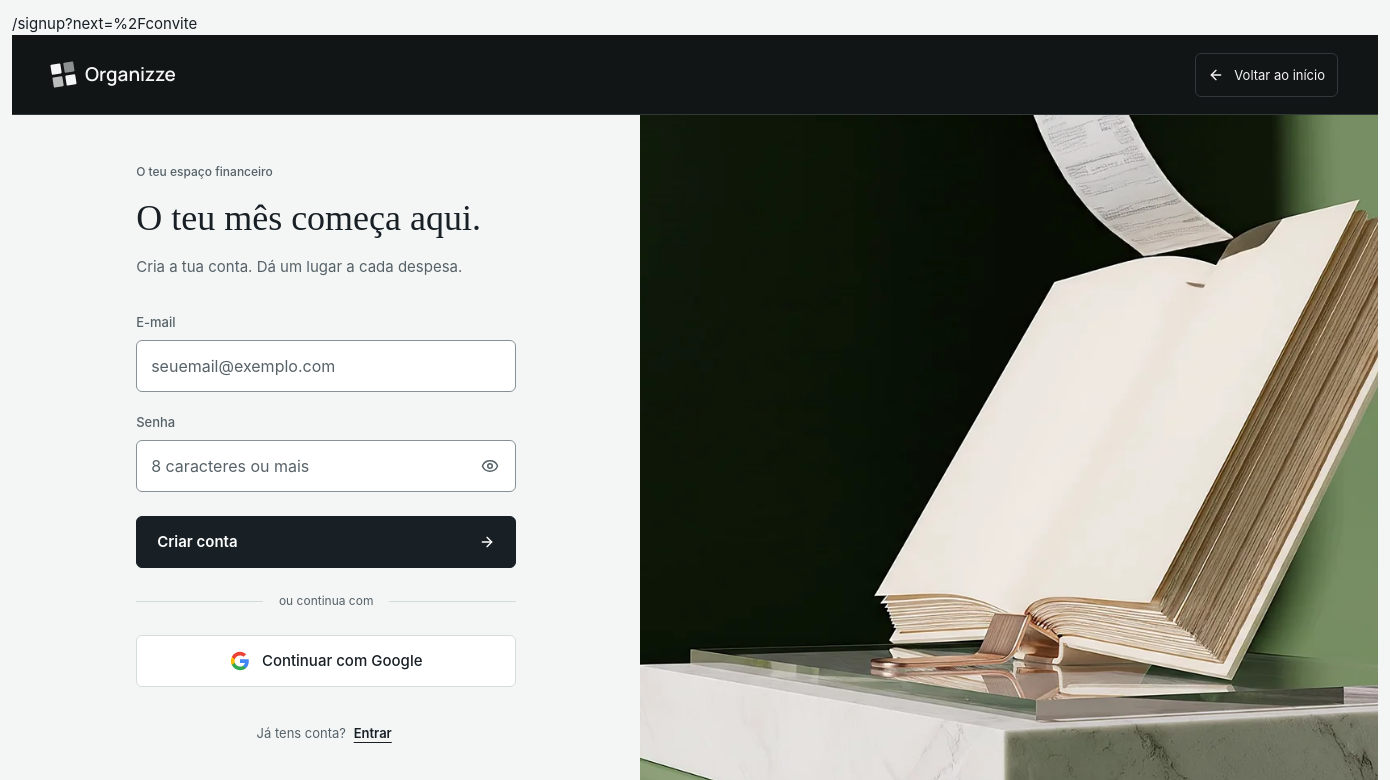
Auth paper credentials › opens the landing signup destination in account creation mode
Expected: the heading "O teu mês começa aqui." is shown, x1=136 y1=198 x2=516 y2=239
In the field labelled "E-mail": x=326, y=366 x1=136 y1=340 x2=516 y2=392, type "person@example.com"
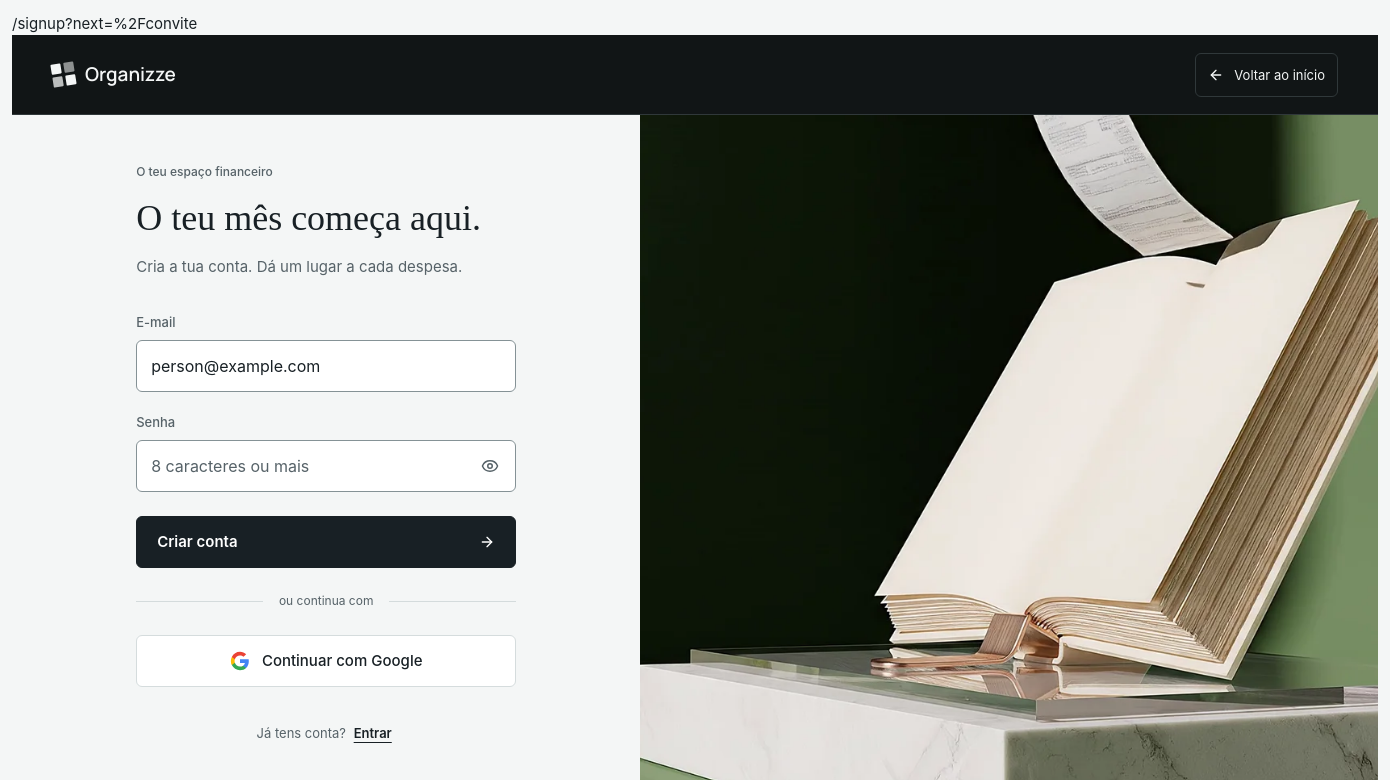
In the password field labelled "Senha": x=326, y=466 x1=136 y1=440 x2=516 y2=492, type " secure-password "
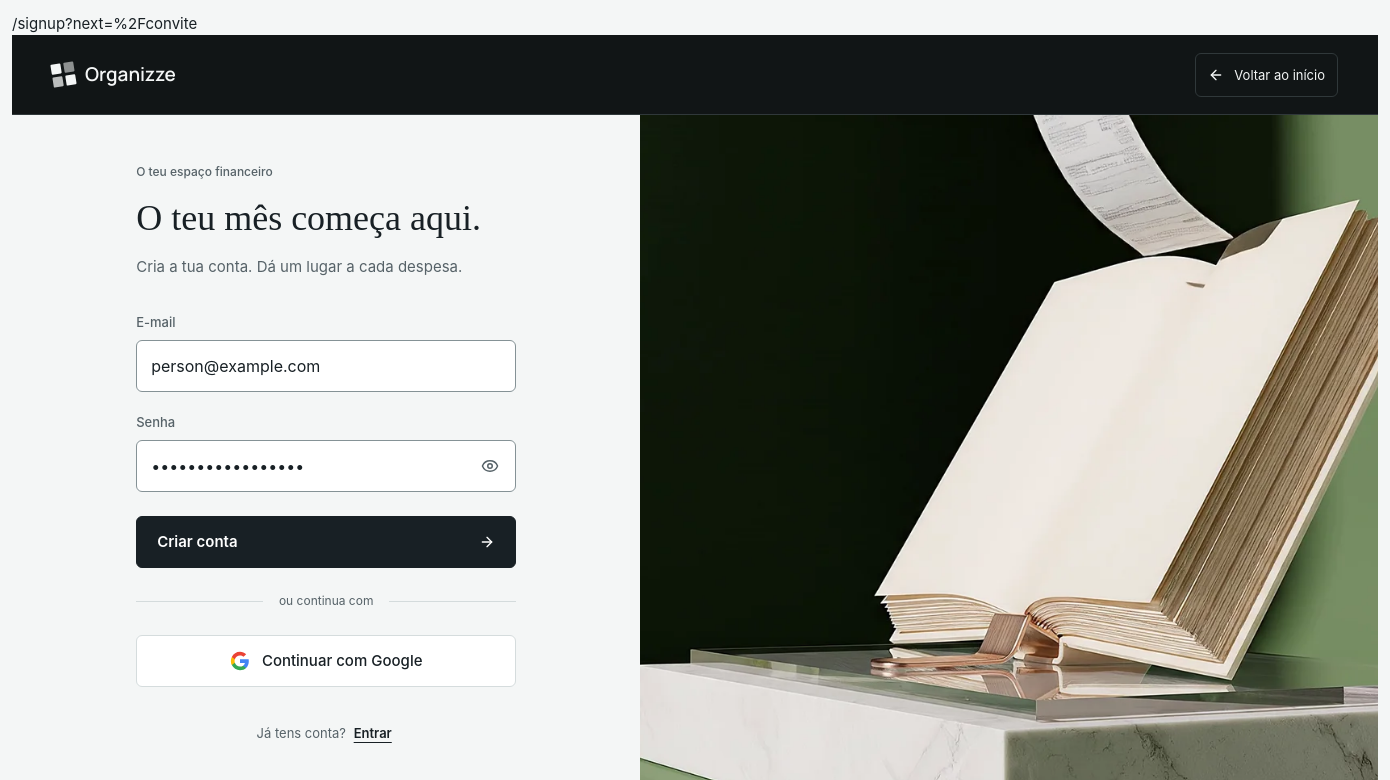
Click the button "Criar conta": x=197, y=542 x1=136 y1=516 x2=516 y2=568
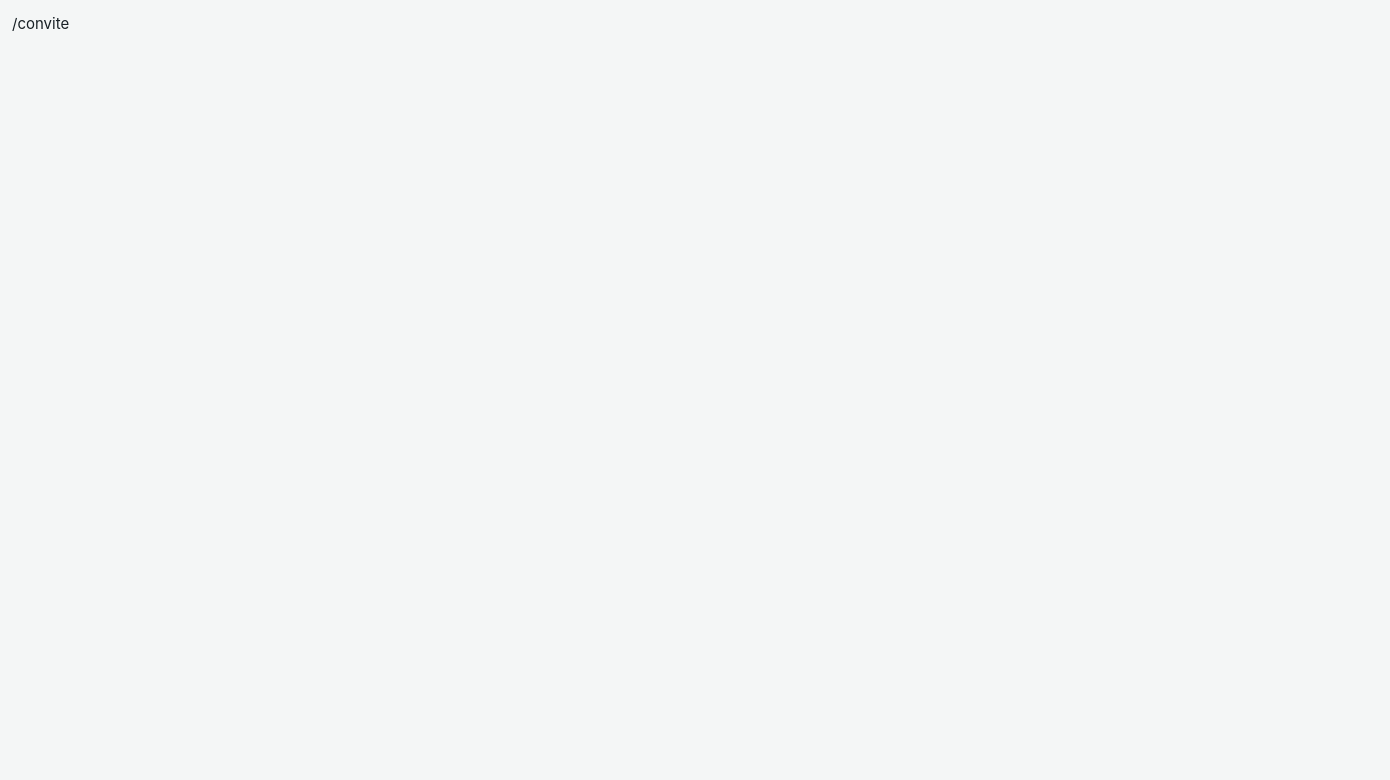
Now the text named "Current location" reads "/convite", box x1=12 y1=14 x2=69 y2=33
